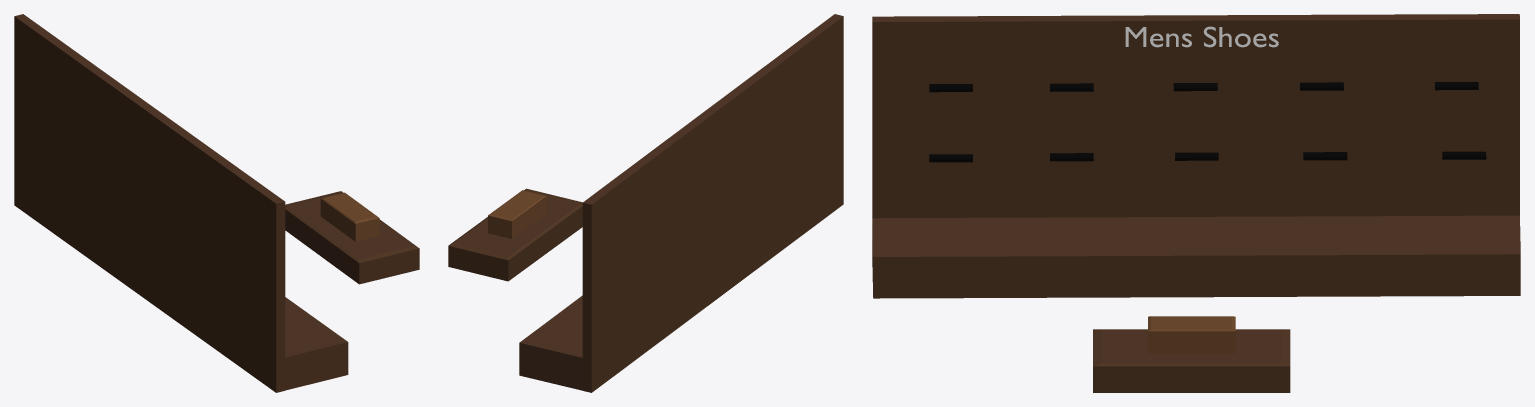
Rendered from MensSection.glb.
The picture shows the model from 3 angles, left to right: view 1: azimuth 30°, elevation 25°; view 2: azimuth 150°, elevation 25°; view 3: azimuth 270°, elevation 25°; orthographic projection. The views are drawn at different scales.
Parts seen in each view (by area): view 1: Cube.026, Cube.003, Cube.027, Cube.002; view 2: Cube.026, Cube.003, Cube.027, Cube.002; view 3: Cube.026, Cube.027, Cube.003, Cube.002, Men.
Boxes of the visible parts, x1,y1,x2,y2 form: Cube.026: [14, 14, 285, 392]; Cube.003: [285, 191, 419, 284]; Cube.027: [282, 297, 348, 390]; Cube.002: [320, 192, 379, 241]; Cube.026: [582, 14, 843, 392]; Cube.003: [448, 188, 582, 281]; Cube.027: [519, 295, 585, 390]; Cube.002: [488, 190, 546, 238]; Cube.026: [872, 14, 1519, 218]; Cube.027: [872, 215, 1520, 298]; Cube.003: [1093, 329, 1290, 392]; Cube.002: [1148, 316, 1235, 353]; Men: [1125, 26, 1278, 47].
Bounding box in the file's own units: 15.59 × 11.97 × 29.58.
